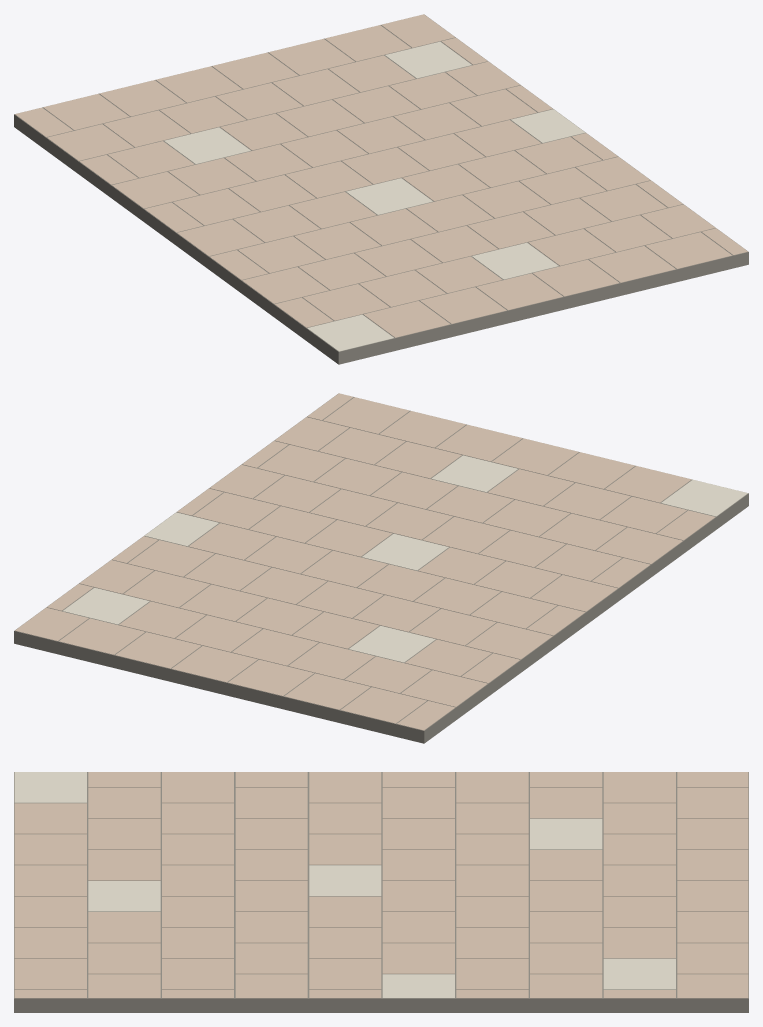
The model's file is CanalWestTurnPaving.glb.
3 views of the same model, one above another, from view 1: azimuth 30°, elevation 25°; view 2: azimuth 150°, elevation 25°; view 3: azimuth 270°, elevation 25° (orthographic). The views are drawn at different scales.
Parts seen in each view (by area): view 1: CanalWestTurnPaving; view 2: CanalWestTurnPaving; view 3: CanalWestTurnPaving.
Boxes of the visible parts, left/top/right/bottom form: CanalWestTurnPaving: left=14, top=14, right=748, bottom=364; CanalWestTurnPaving: left=14, top=393, right=748, bottom=743; CanalWestTurnPaving: left=14, top=772, right=748, bottom=1012.
Bounding box in the file's own units: 9.1 × 0.275 × 12.48.
